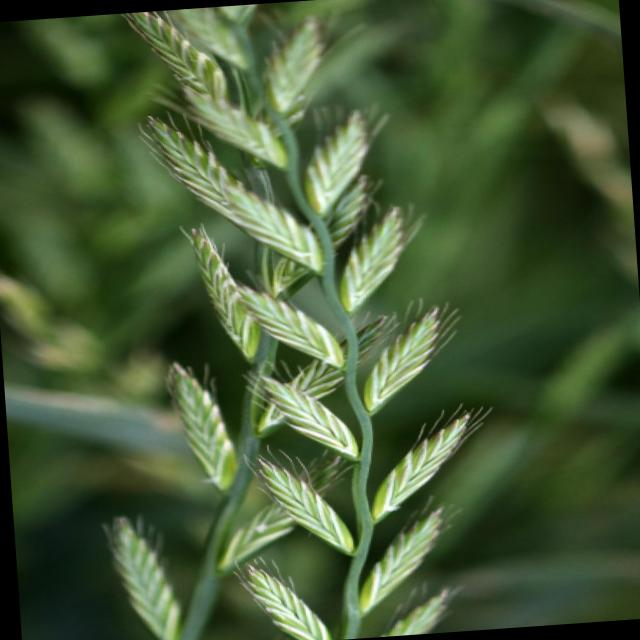Lolium: (66, 0, 511, 640)
